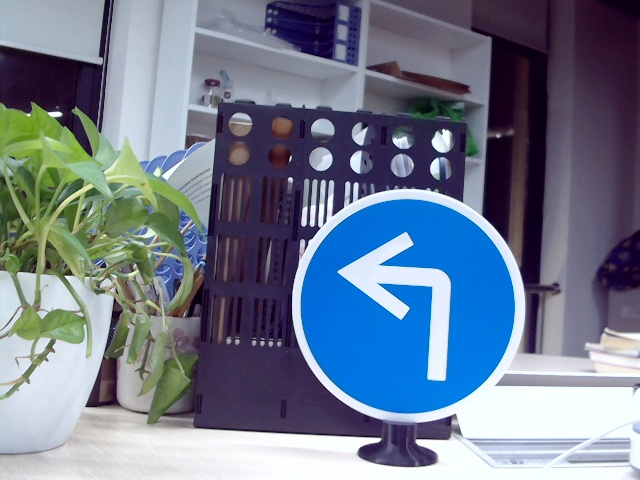turn_left: (338, 227, 472, 384)
